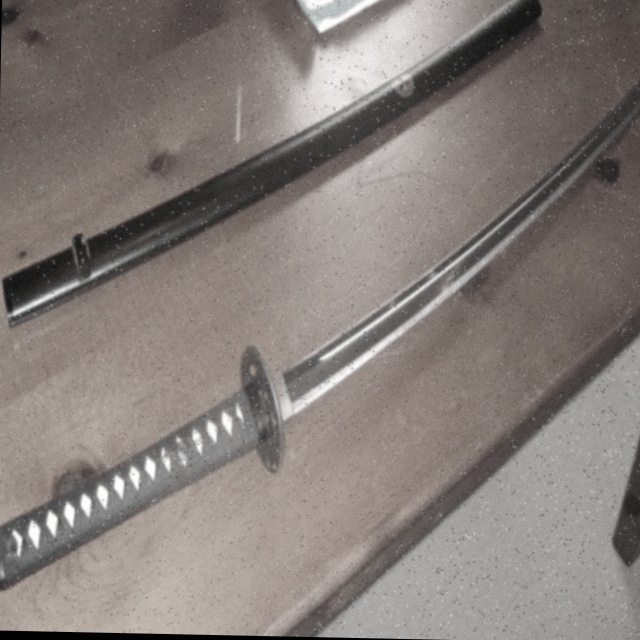Sharp-Object: (0, 21, 640, 615)
